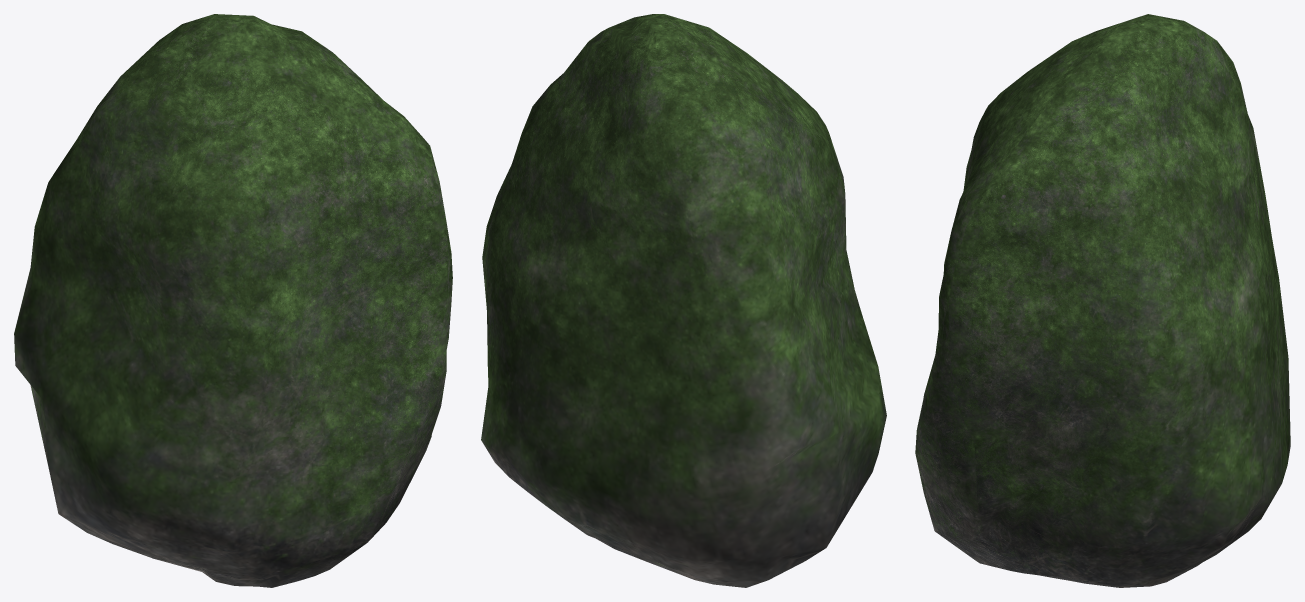
3 renders of one model, left to right at view 1: azimuth 30°, elevation 25°; view 2: azimuth 150°, elevation 25°; view 3: azimuth 270°, elevation 25°, orthographic. The views are drawn at different scales.
Visible parts, largest first — view 1: stone3_low; view 2: stone3_low; view 3: stone3_low.
Boxes of the visible parts, x1,y1,x2,y2 form: stone3_low: (14,14,452,587); stone3_low: (481,14,886,587); stone3_low: (915,14,1290,587).
Size of the model in its own units: 179 by 263 by 157.
Materials: 1 (1 with a texture image).
